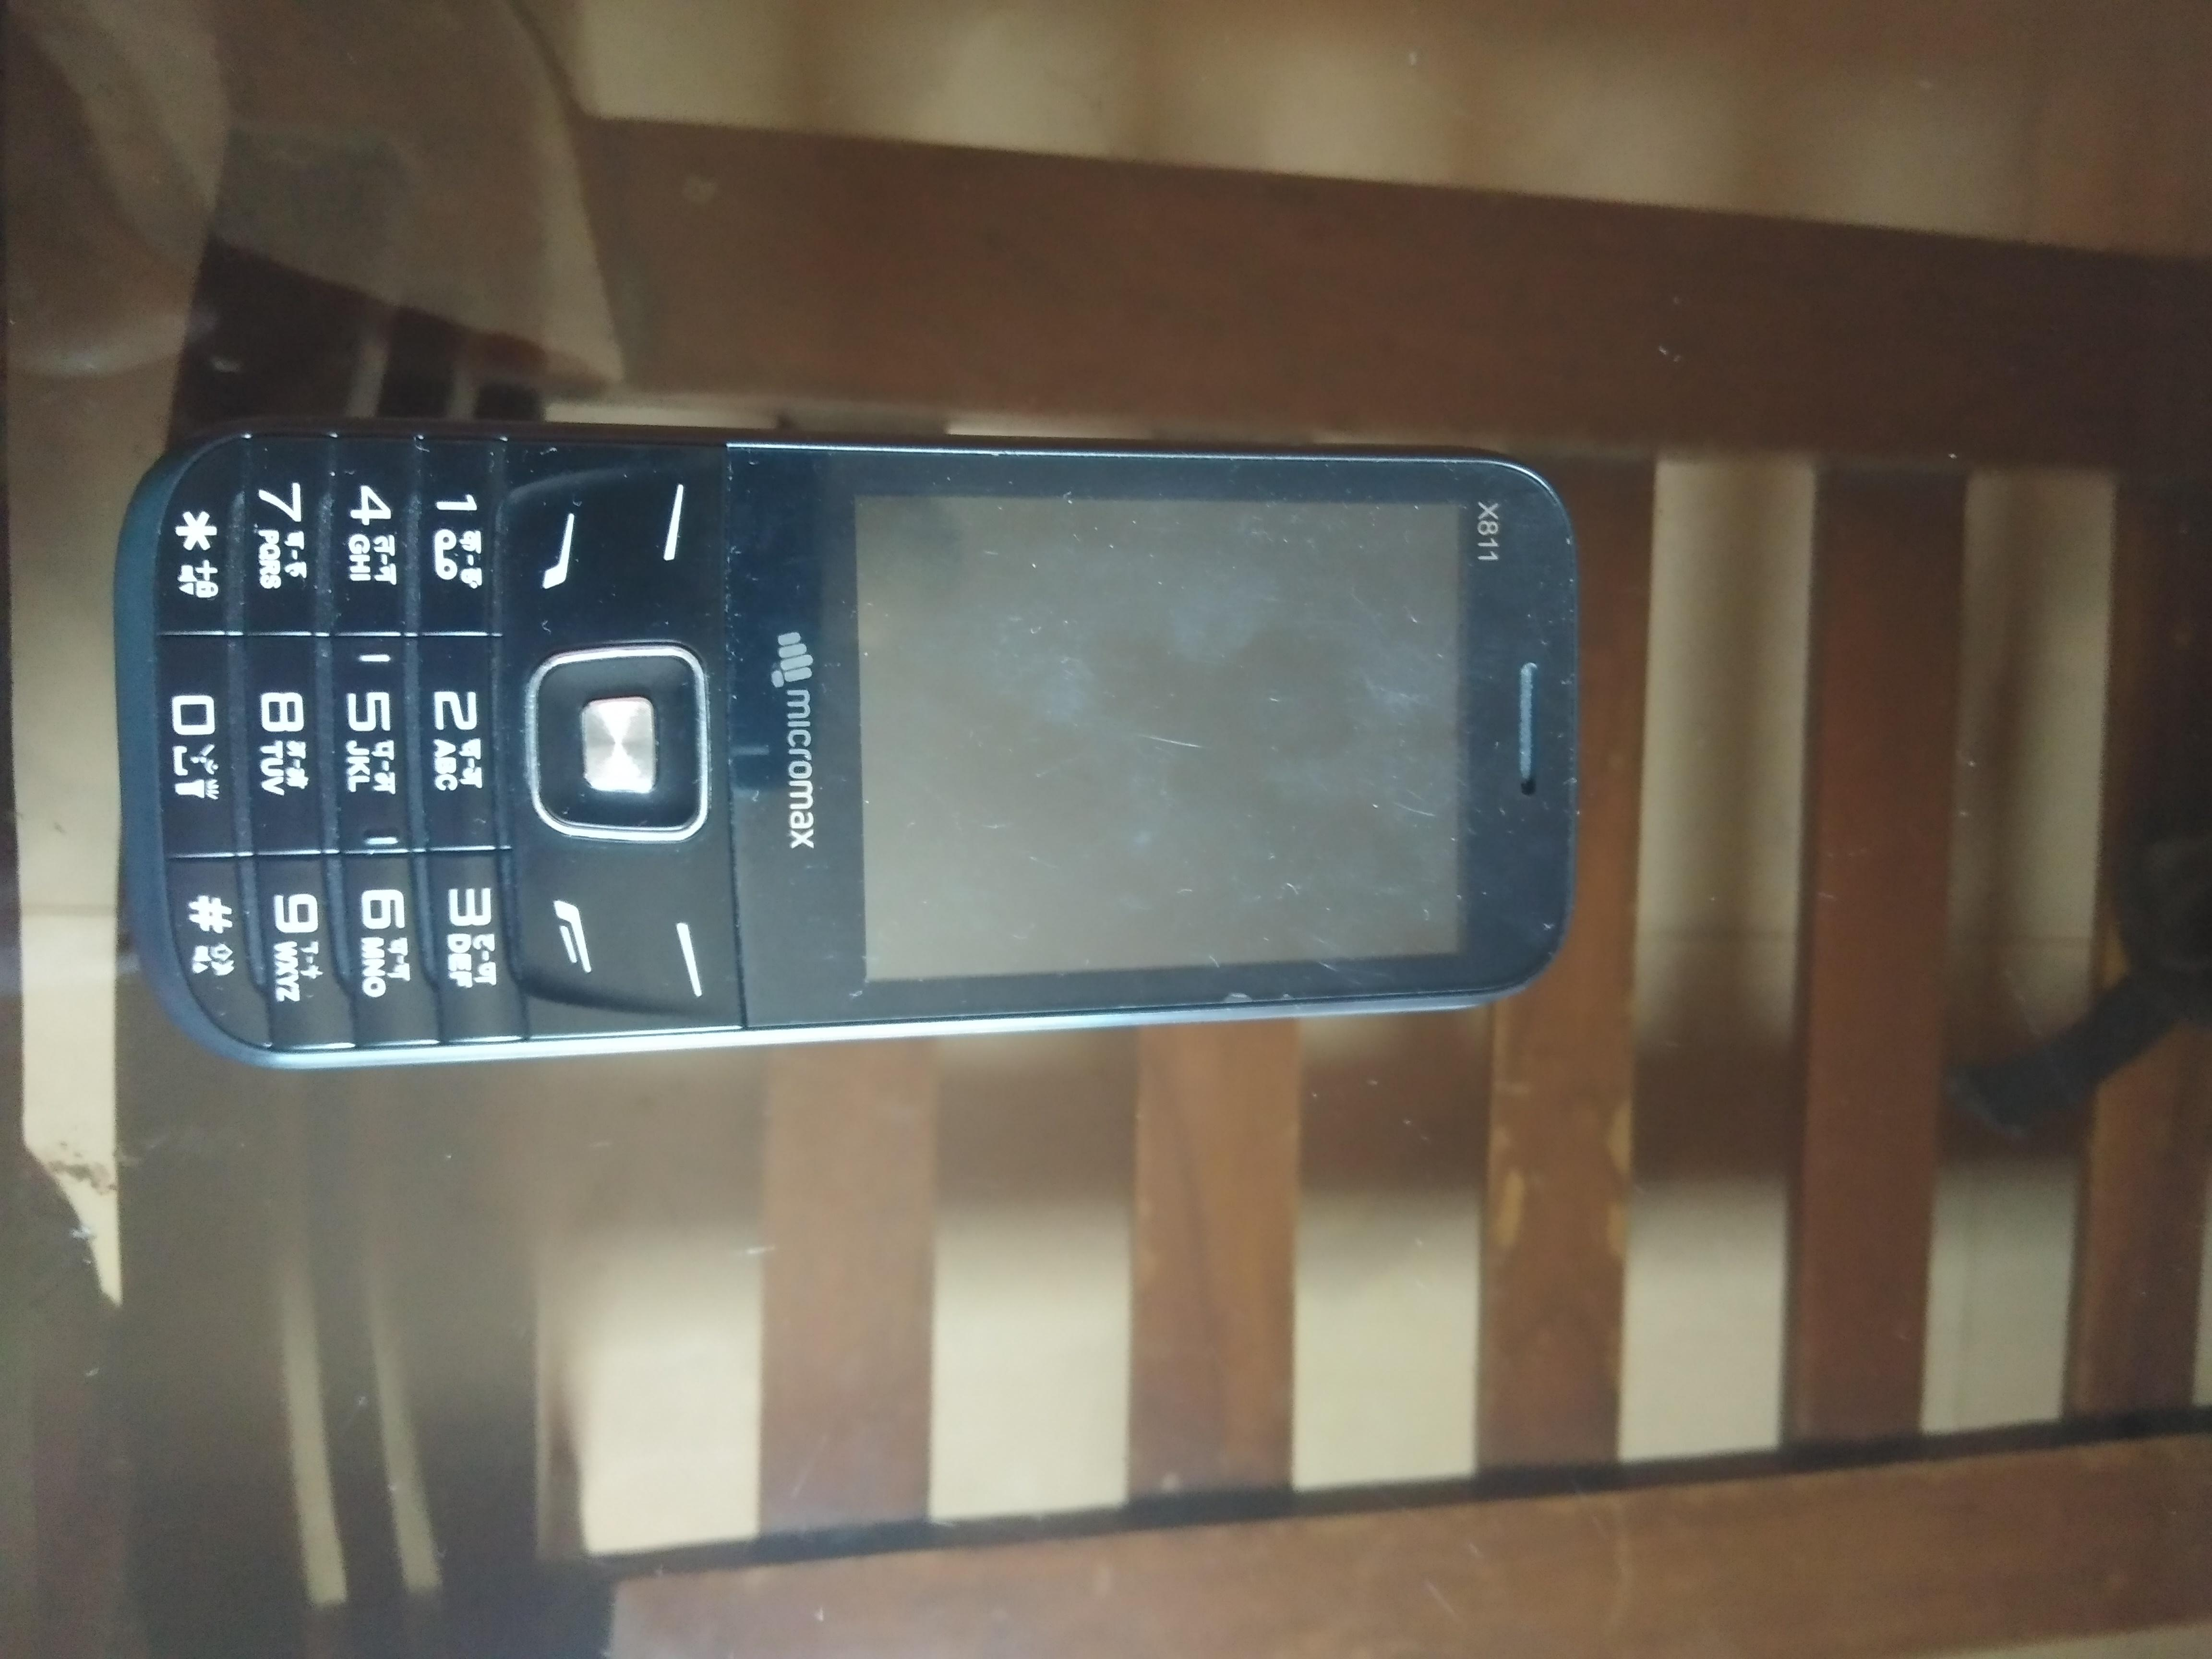Phone: (89, 376, 1630, 1115)
